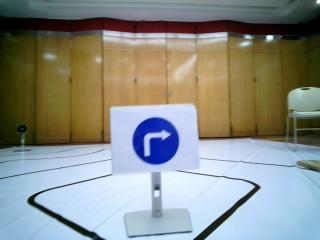right: (114, 111, 201, 170)
